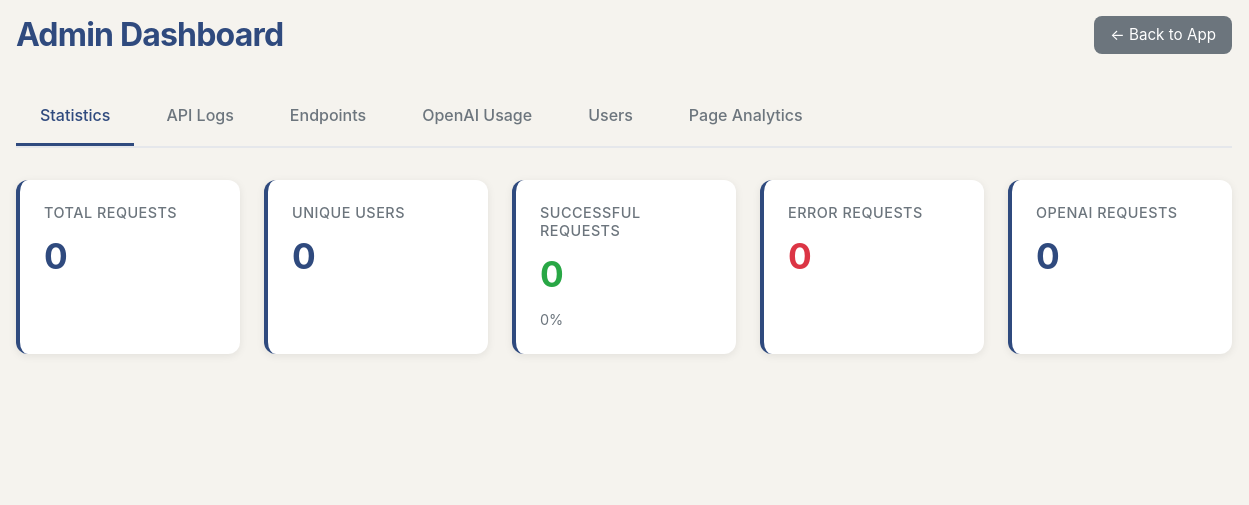
Test: AdminDashboard.vue › API Logs Tab › shows empty state when no logs
This screenshot has width=1249, height=505.
Step 1. Click the button "API Logs" → (200, 116), box [142, 87, 258, 146]
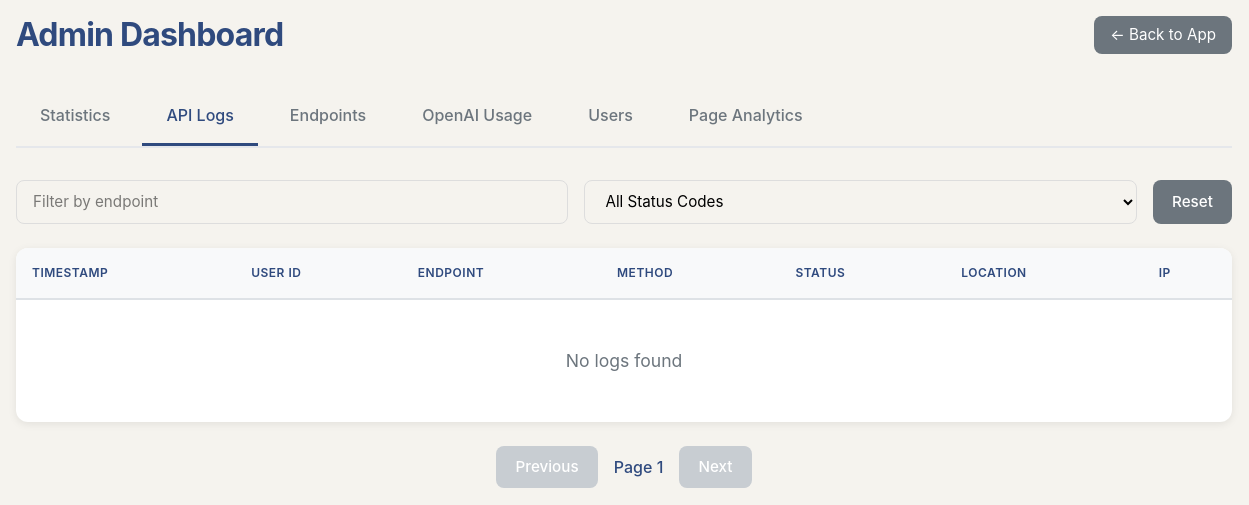
Result: the text "No logs found" is shown at [566, 350, 682, 371]
